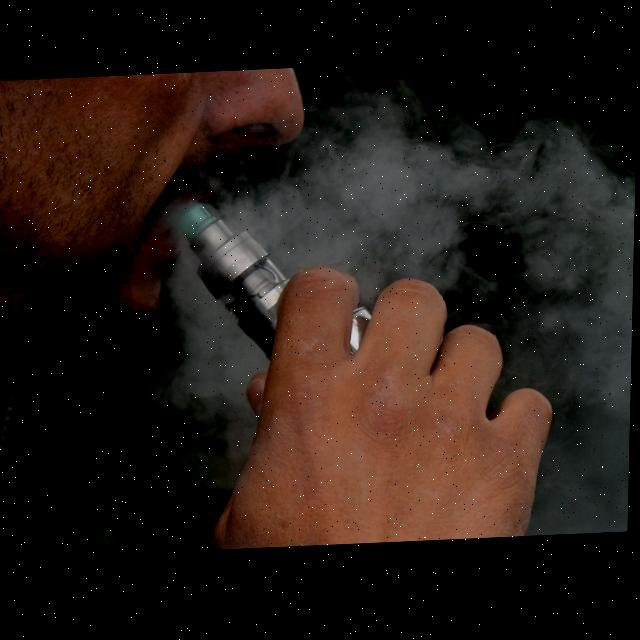vape: (175, 200, 375, 365)
